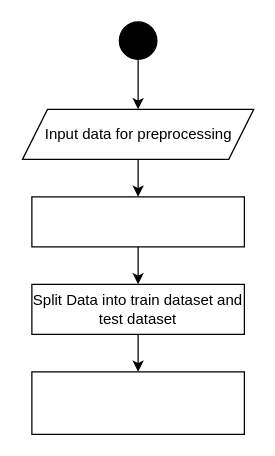
The diagram is 275 pixels wide and 456 high, and some of its shapes have lost their labels. Here are the shapes that lost their labels. From the top down, the centre of each, then its label:
At pixel 137 221: "Encode label data".
At pixel 137 402: "Initialize Random Forest n_estimators, max_depth, sample_size".
